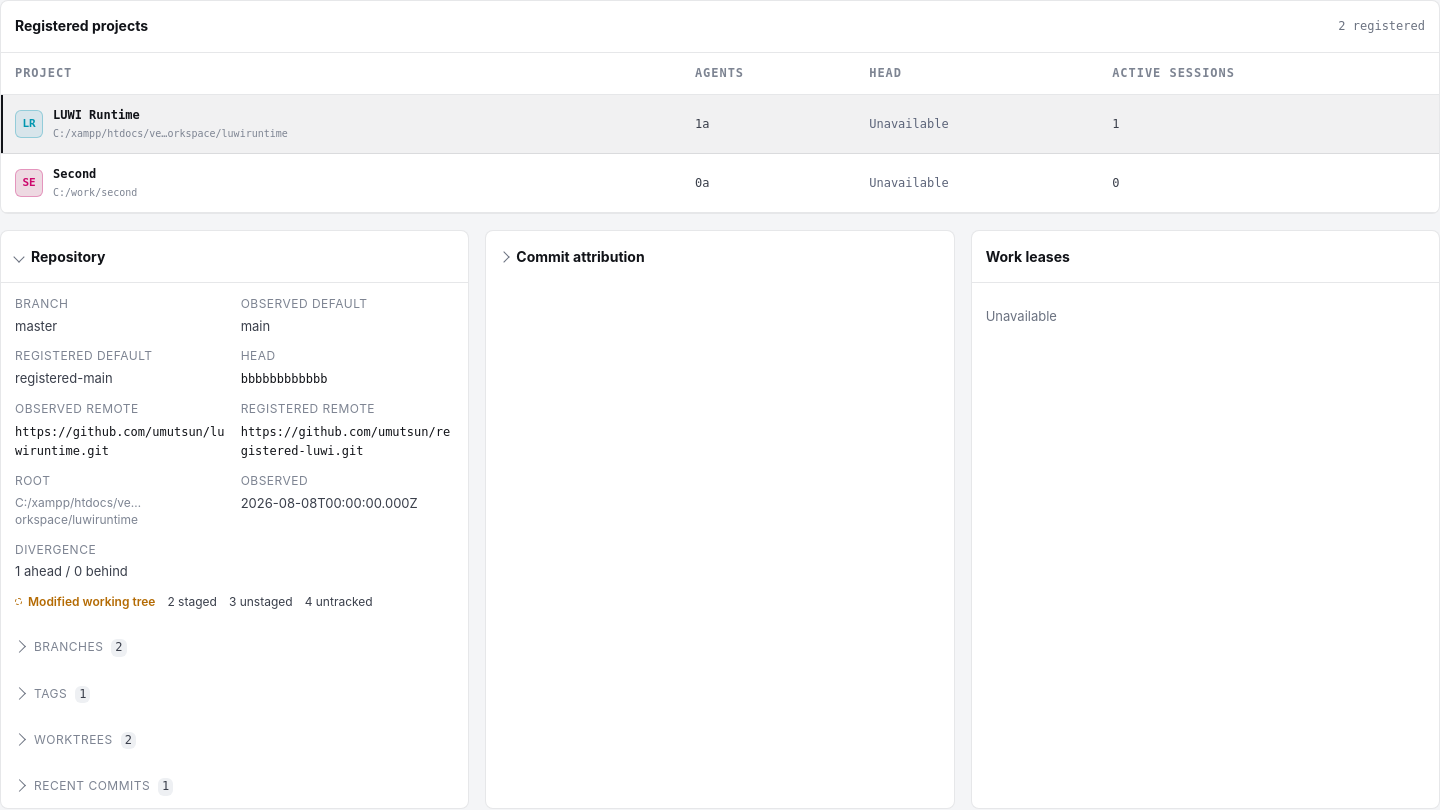
Test case: ProjectsView detail › renders commit attribution with the agent and session it was tied to
Click the button "Commit attribution" at (580, 257), box [500,247,940,267]
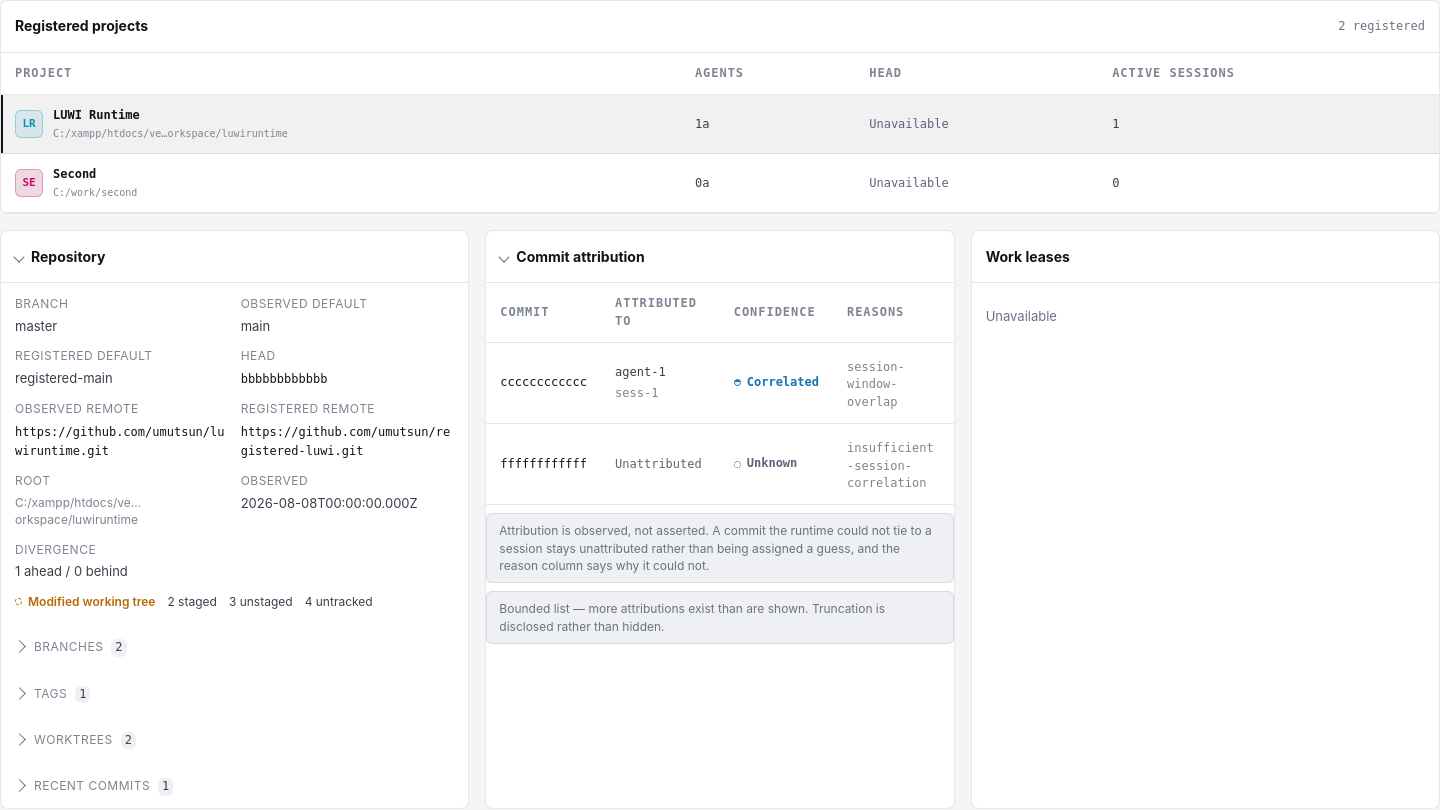
Expected: the text "agent-1 sess-1" is shown, [601,342,720,424]
Expected: the text "Correlated" is shown, [734,374,819,392]
Expected: the text "session-window-overlap" is shown, [847,360,905,409]
